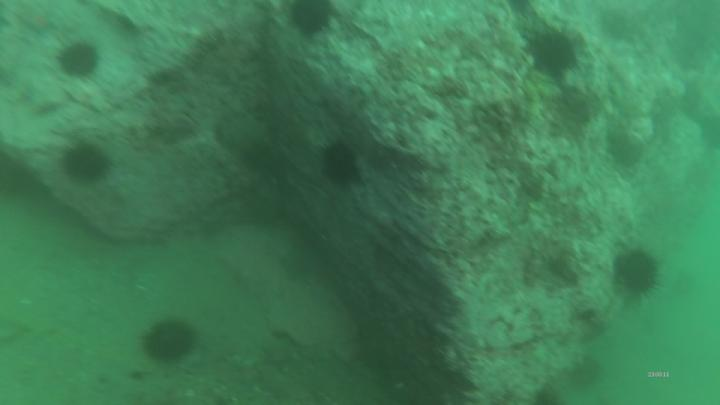echinus: (615, 250, 657, 295), (65, 143, 108, 184), (531, 33, 571, 75), (147, 324, 191, 359), (58, 46, 98, 81), (291, 3, 332, 37), (327, 144, 355, 189)
